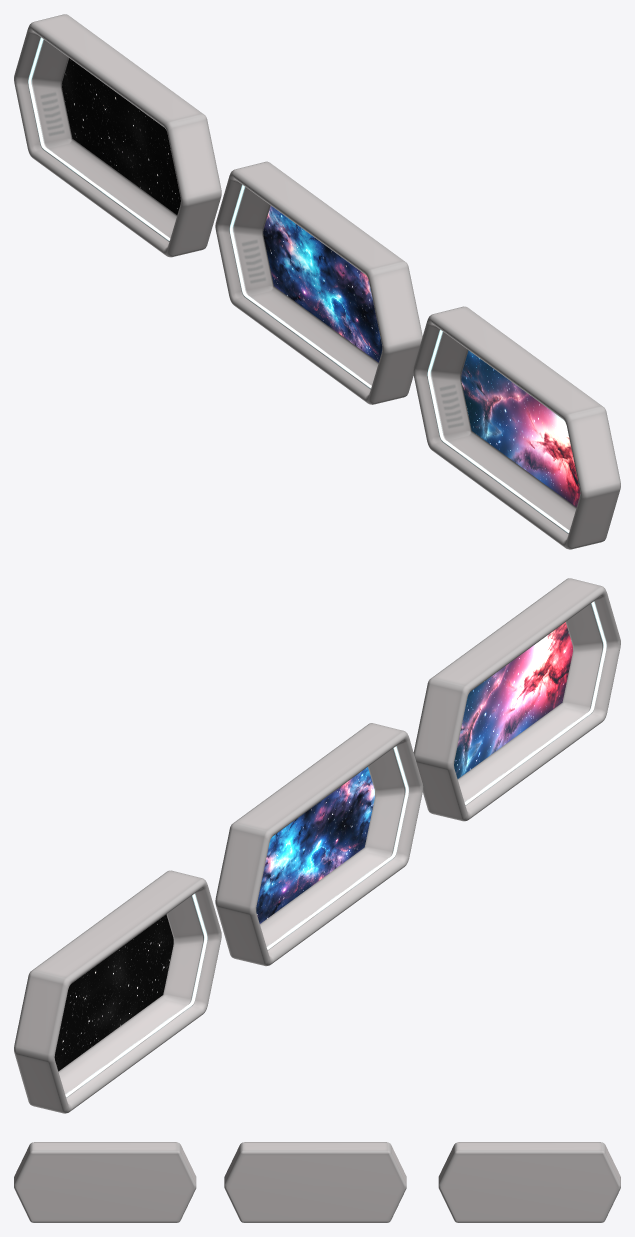
File: computer5.glb
3 views of the same model, one above another, from view 1: azimuth 30°, elevation 25°; view 2: azimuth 150°, elevation 25°; view 3: azimuth 270°, elevation 25° (orthographic). The views are drawn at different scales.
Parts seen in each view (by area): view 1: SM_large_window, SM_large_window.002, SM_large_window.001; view 2: SM_large_window.001, SM_large_window, SM_large_window.002; view 3: SM_large_window, SM_large_window.001, SM_large_window.002.
Boxes of the visible parts, box(x1,y1,x2,y2) form: SM_large_window: box(14, 14, 221, 257); SM_large_window.002: box(413, 306, 620, 549); SM_large_window.001: box(215, 161, 422, 404); SM_large_window.001: box(215, 723, 423, 966); SM_large_window: box(14, 870, 221, 1113); SM_large_window.002: box(413, 578, 620, 821); SM_large_window: box(438, 1142, 620, 1222); SM_large_window.001: box(224, 1142, 406, 1222); SM_large_window.002: box(14, 1142, 196, 1222).
Size of the model in its own units: 0.527 by 1.7 by 12.97.
Materials: 4 (4 with a texture image).
